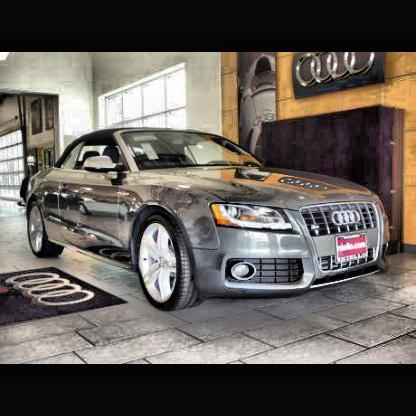Audi S5 Convertible 2012: (26, 129, 392, 313)
